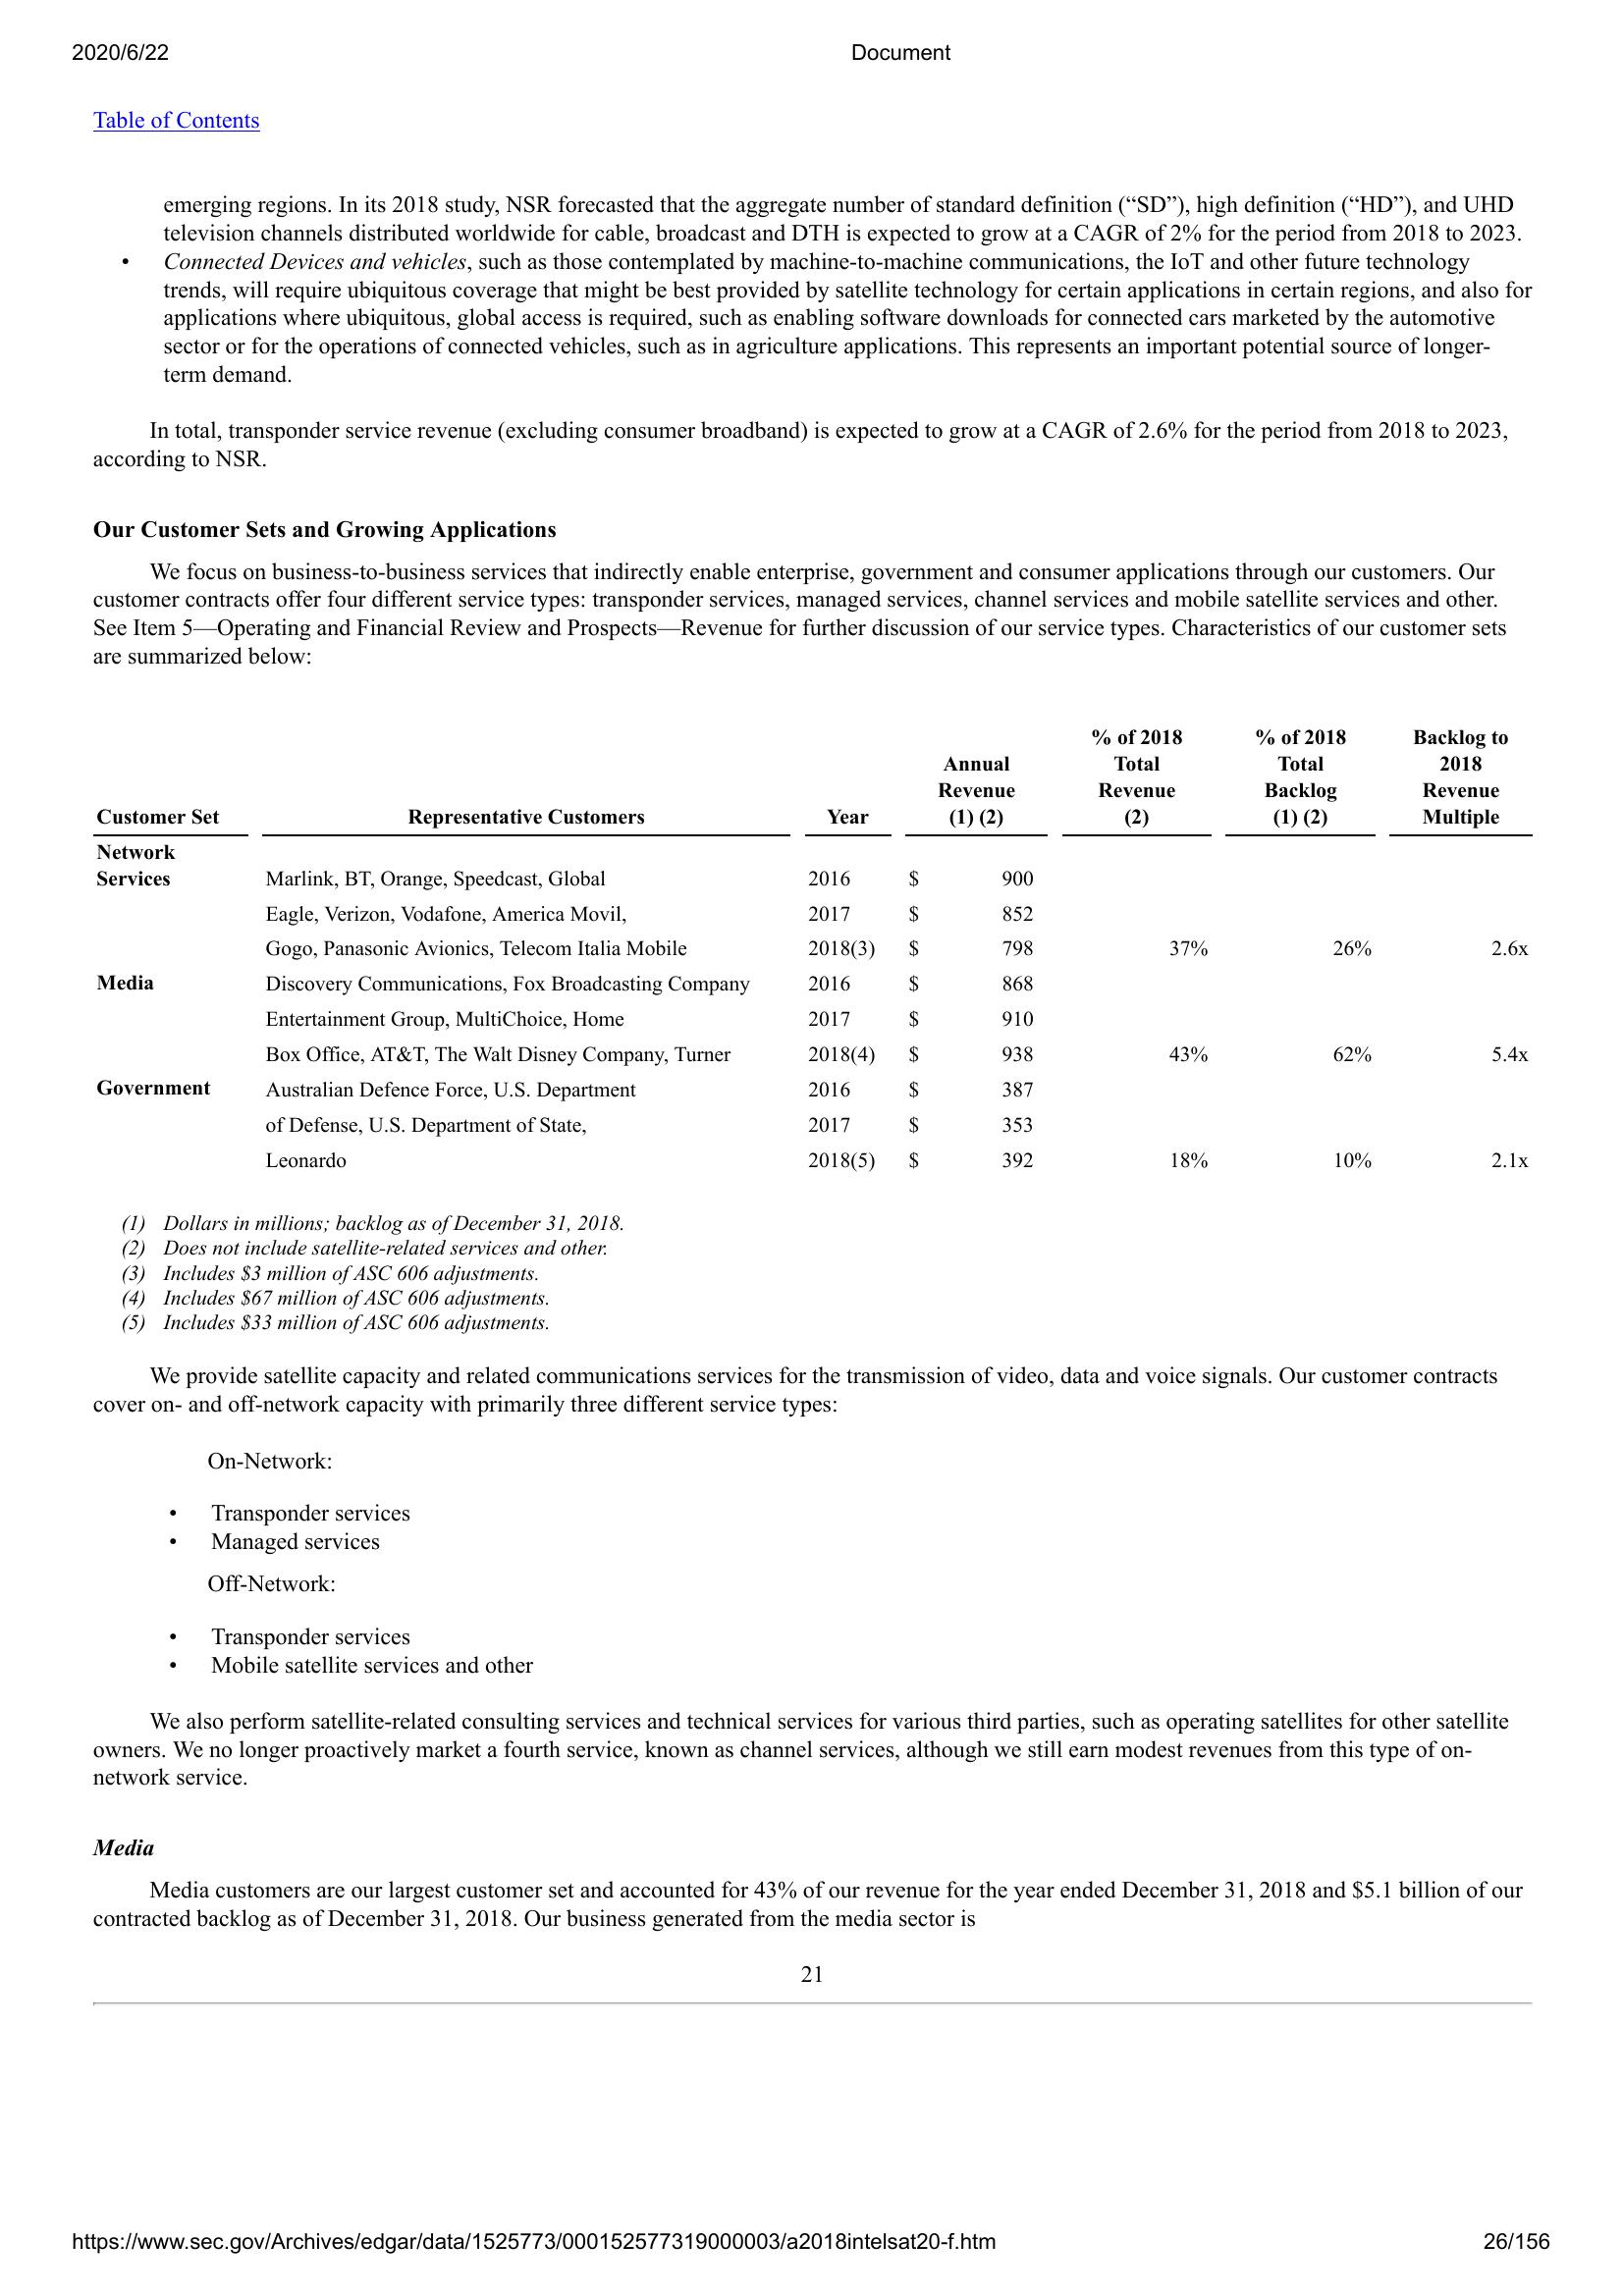table: (79, 718, 1546, 1204)
